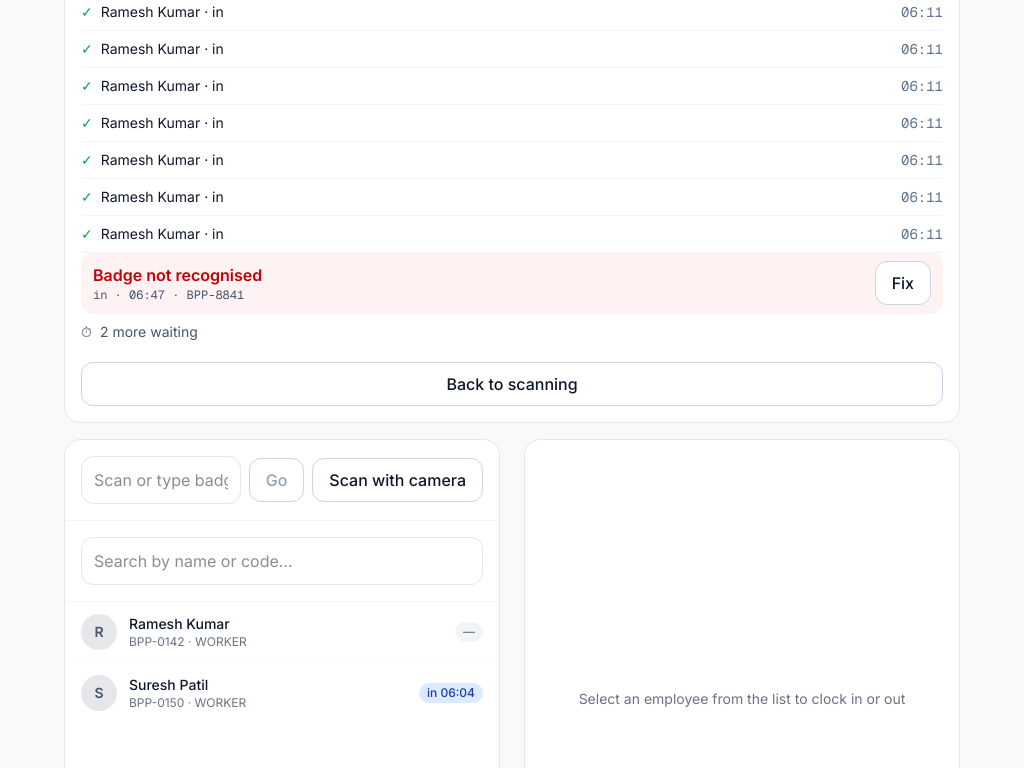
Test: the queue panel — K2’s “11 / 14 sent” › “Back to scanning” clears the sent list but leaves what is still stuck
This screenshot has width=1024, height=768.
(page scrolled)
Click the button "Back to scanning": (512, 384) [81,362,943,406]
(page scrolled)
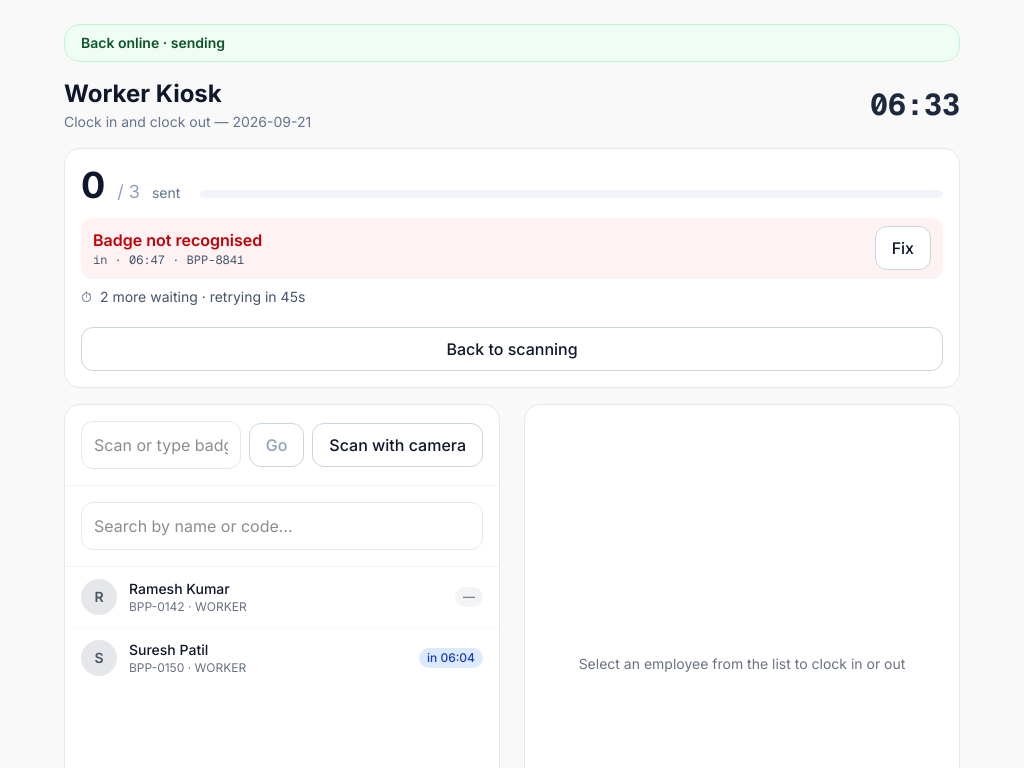
Expected: the text "Badge not recognised" is shown, [93,230,262,250]
Expected: the text "11" is gone
